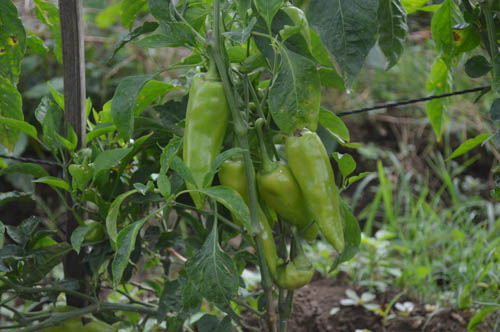ChiliPepper: (288, 129, 345, 249), (217, 158, 273, 273), (180, 75, 225, 206), (262, 165, 316, 239), (272, 263, 313, 296)
